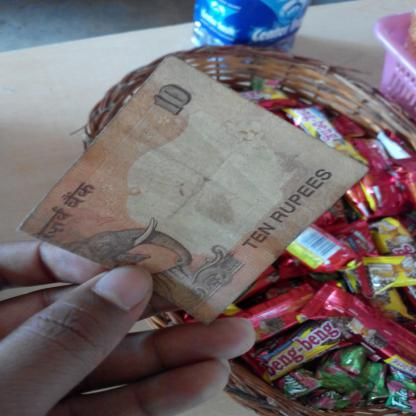Old10Back: (16, 54, 371, 326)
